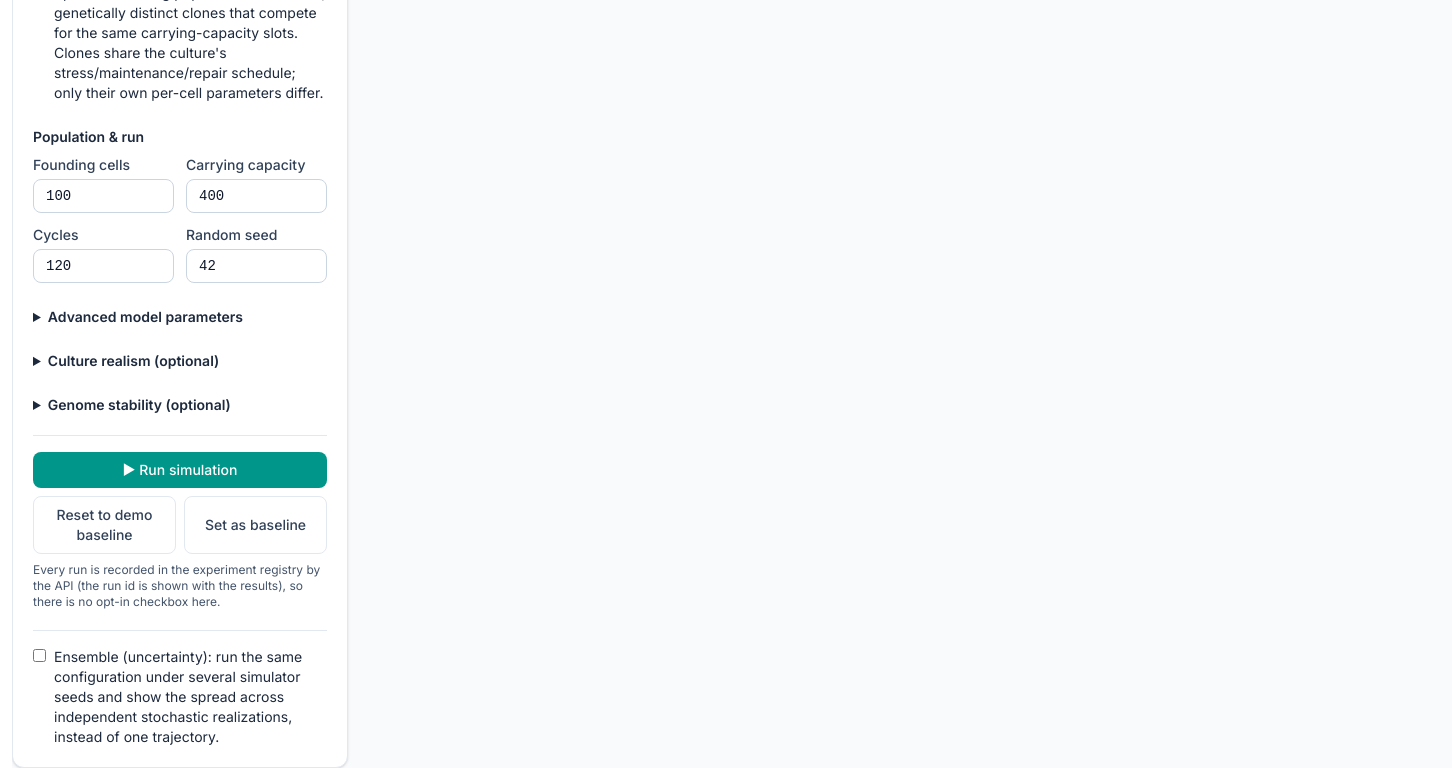
Simulate page › omits `schedule` from the request when nothing is scheduled
This screenshot has width=1452, height=768.
(page scrolled)
Click the button "▶ Run simulation". click: [180, 470]
box: 33,452 -> 327,488
(page scrolled)
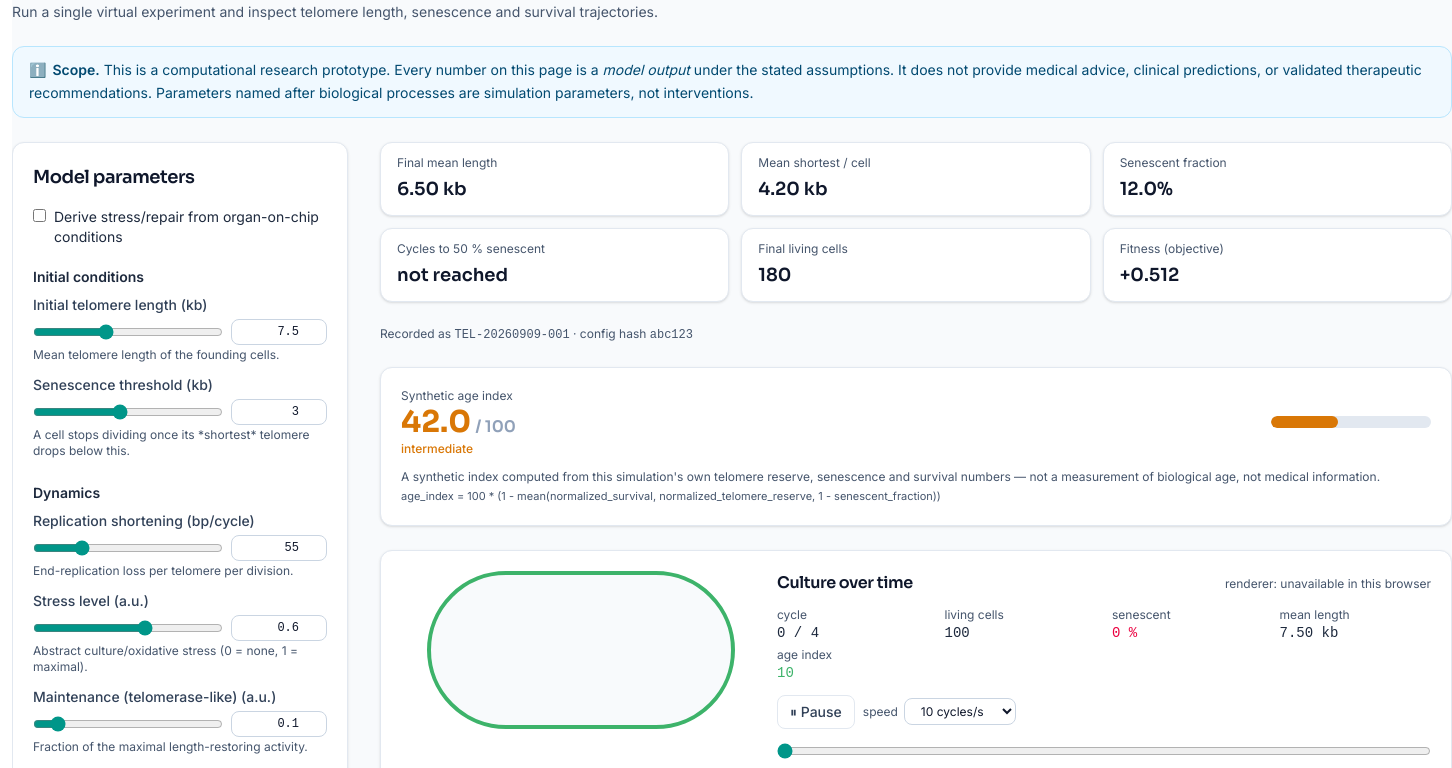
Expected: the element with test id "metric-row" is shown, 380,142 -> 1451,302
